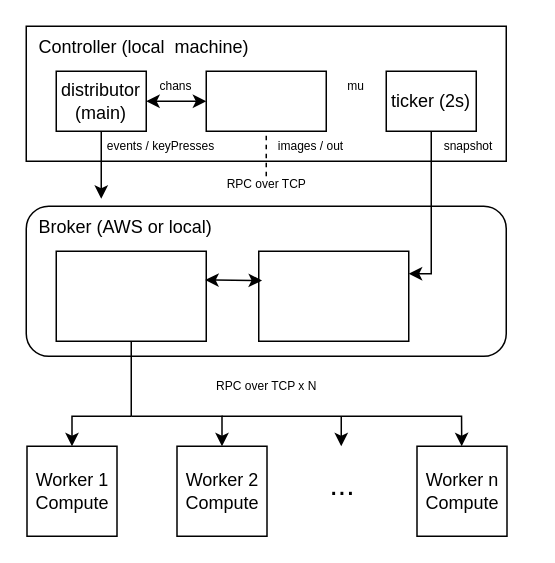
The diagram is 555 pixels wide and 563 high, and some of its shapes have lost their labels. Here are the shapes that lost their labels. From the top down, the centre of each, then its label:
At point 265,100: "startIO (goroutine)".
At point 130,295: "GolBroker RPC Server Evolve / GetAlive Screenshot / Pause StopEvolve / CleanUp".
At point 333,295: "BrokerState mu + cond world, turn aliveCount paused / stopped".
